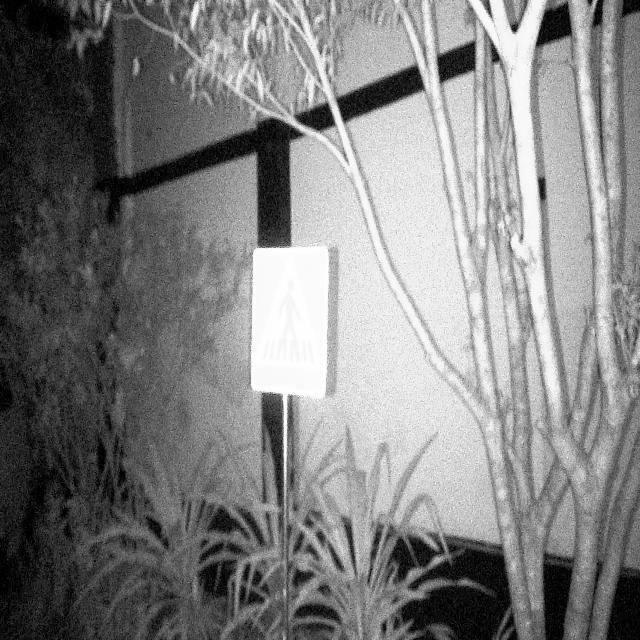Sign: (250, 244, 330, 402)
